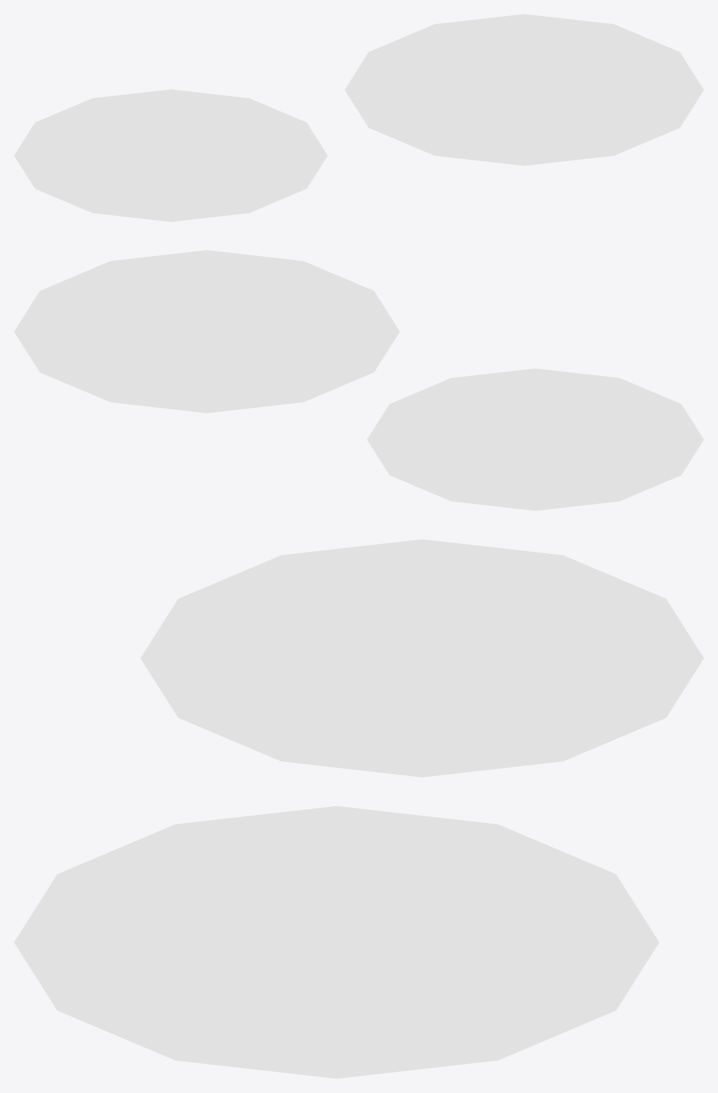
Rendered from svetlo2.FBX.
3 views of the same model, one above another, from view 1: azimuth 30°, elevation 25°; view 2: azimuth 150°, elevation 25°; view 3: azimuth 270°, elevation 25° (orthographic). The views are drawn at different scales.
Visible parts, largest first — view 1: Object01; view 2: Object01; view 3: Object01.
Boxes of the visible parts, <box> form: Object01: <box>14,14,703,221</box>; Object01: <box>14,250,703,510</box>; Object01: <box>14,539,703,1078</box>.
Size of the model in its own units: 16838 by 69.76 by 9020.
Materials: 1 (1 with a texture image).
